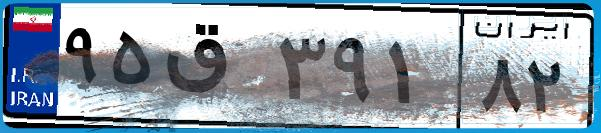1: (385, 28, 445, 110)
2: (525, 38, 570, 115)
3: (270, 28, 330, 110)
5: (110, 28, 158, 98)
8: (475, 38, 525, 113)
9: (330, 28, 385, 110), (57, 26, 110, 100)
ق: (158, 20, 270, 120)
